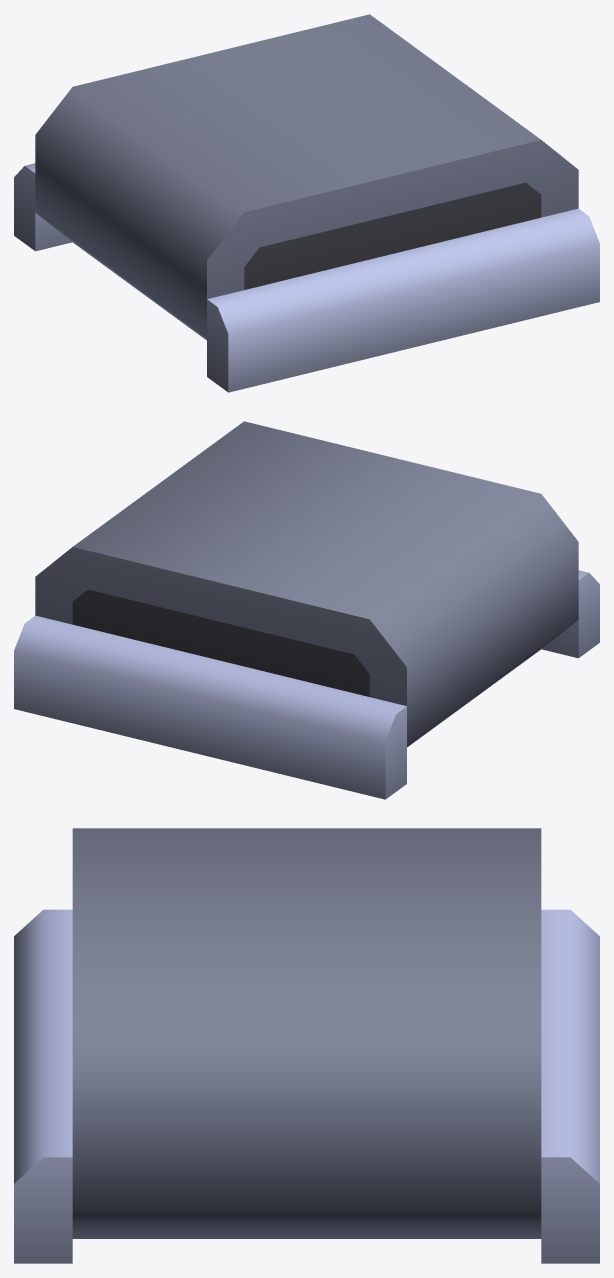
The picture shows the model from 3 angles, top to bottom: view 1: azimuth 30°, elevation 25°; view 2: azimuth 150°, elevation 25°; view 3: azimuth 270°, elevation 25°; orthographic projection. The views are drawn at different scales.
Parts seen in each view (by area): view 1: Group_1, Group; view 2: Group_1, Group; view 3: Group_1, Group.
Part boxes in pixels (left/top/right/bottom): Group_1: left=35, top=14, right=578, bottom=340; Group: left=14, top=163, right=599, bottom=392; Group_1: left=35, top=421, right=578, bottom=747; Group: left=14, top=570, right=599, bottom=799; Group_1: left=72, top=828, right=541, bottom=1238; Group: left=14, top=909, right=599, bottom=1263.
Size of the model in its own units: 1 by 0.4 by 1.
1 material, 1 textured.
